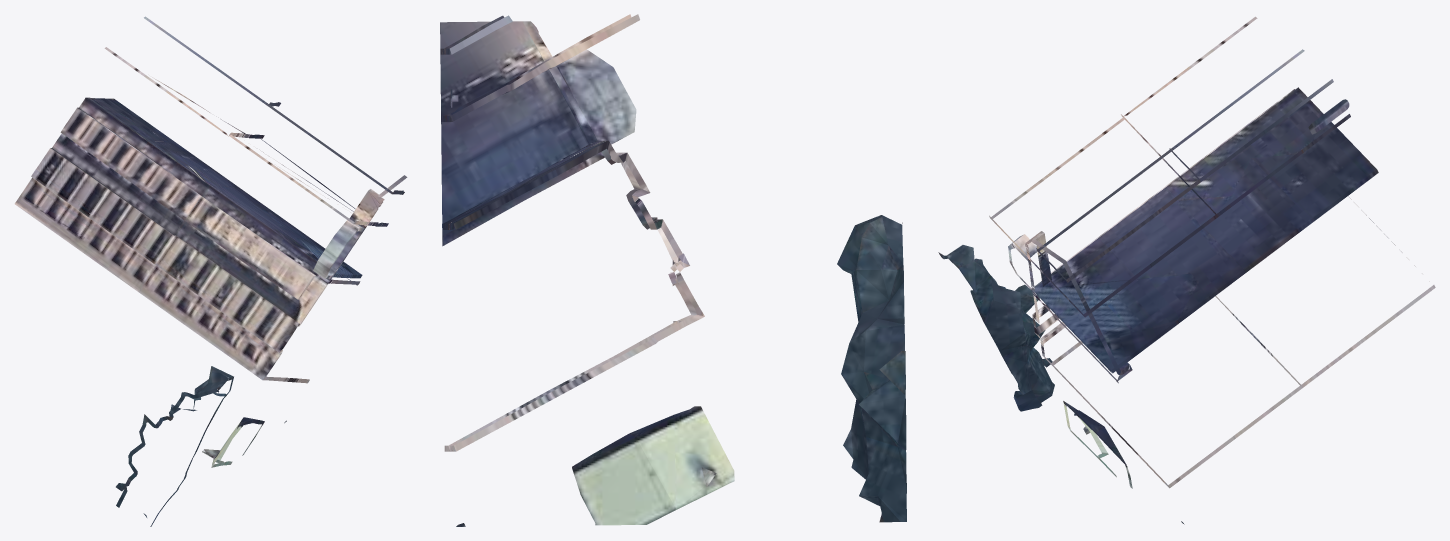
The picture shows the model from 3 angles, left to right: view 1: azimuth 30°, elevation 25°; view 2: azimuth 150°, elevation 25°; view 3: azimuth 270°, elevation 25°; orthographic projection. The views are drawn at different scales.
Size of the model in its own units: 40.06 by 50.51 by 52.68.
2 materials, 2 textured.
